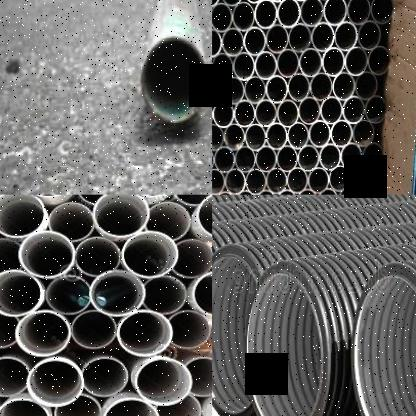pipe: (245, 269, 323, 416), (353, 272, 415, 416), (212, 252, 256, 416), (142, 34, 207, 124), (26, 359, 85, 407), (134, 358, 192, 406), (19, 230, 75, 278), (122, 231, 179, 278), (117, 310, 173, 357), (15, 310, 71, 357), (89, 270, 146, 316), (92, 195, 150, 238), (0, 270, 44, 316), (0, 195, 45, 238), (46, 274, 90, 316), (75, 236, 121, 276), (82, 358, 129, 397), (49, 202, 94, 242), (142, 275, 187, 315), (144, 202, 191, 240), (72, 310, 116, 350), (168, 310, 211, 350), (171, 238, 212, 278), (0, 355, 31, 398), (185, 356, 212, 398), (155, 392, 201, 416), (102, 397, 160, 416), (53, 394, 102, 416), (192, 270, 212, 316), (0, 398, 49, 416), (0, 238, 22, 276), (288, 22, 312, 53), (311, 21, 335, 52), (243, 25, 267, 56), (0, 309, 19, 348), (232, 1, 256, 31), (299, 47, 323, 77), (334, 21, 358, 51), (367, 45, 391, 75), (322, 46, 345, 77), (254, 0, 278, 29), (358, 20, 381, 50), (277, 48, 300, 78), (345, 46, 368, 76), (355, 70, 378, 100), (309, 72, 333, 100), (266, 24, 289, 53), (320, 95, 343, 124), (330, 118, 353, 147), (222, 27, 244, 57), (255, 50, 277, 80), (288, 72, 310, 102), (277, 97, 299, 127), (197, 194, 212, 238), (212, 1, 233, 32), (300, 0, 324, 27), (222, 76, 245, 104), (277, 0, 300, 28), (298, 96, 321, 124), (265, 122, 288, 150), (364, 95, 387, 123), (233, 51, 255, 80), (266, 74, 288, 103), (333, 71, 355, 100), (244, 75, 266, 104), (309, 119, 331, 148), (255, 98, 277, 127), (212, 51, 233, 81), (346, 0, 371, 25), (352, 119, 375, 146), (234, 99, 256, 127), (343, 95, 365, 123), (362, 141, 384, 169), (213, 99, 234, 128), (224, 122, 245, 151), (324, 0, 347, 26), (287, 121, 309, 148), (319, 143, 341, 170), (298, 144, 319, 172), (235, 145, 256, 173), (341, 141, 362, 169), (245, 168, 267, 194), (245, 123, 266, 150), (214, 146, 235, 173), (256, 145, 277, 172), (277, 145, 298, 172), (350, 164, 371, 191), (266, 167, 287, 194), (308, 166, 329, 193), (225, 167, 245, 195), (370, 0, 393, 24), (287, 167, 308, 193), (329, 165, 350, 191), (173, 195, 212, 206), (77, 195, 122, 204), (212, 167, 226, 195), (212, 123, 224, 151), (212, 76, 223, 104), (212, 28, 221, 57), (338, 186, 359, 194), (359, 186, 380, 194), (318, 186, 338, 194), (276, 187, 297, 194), (297, 187, 318, 194), (220, 0, 243, 6), (256, 188, 277, 194), (236, 188, 256, 194), (243, 0, 265, 3), (265, 0, 289, 2)
